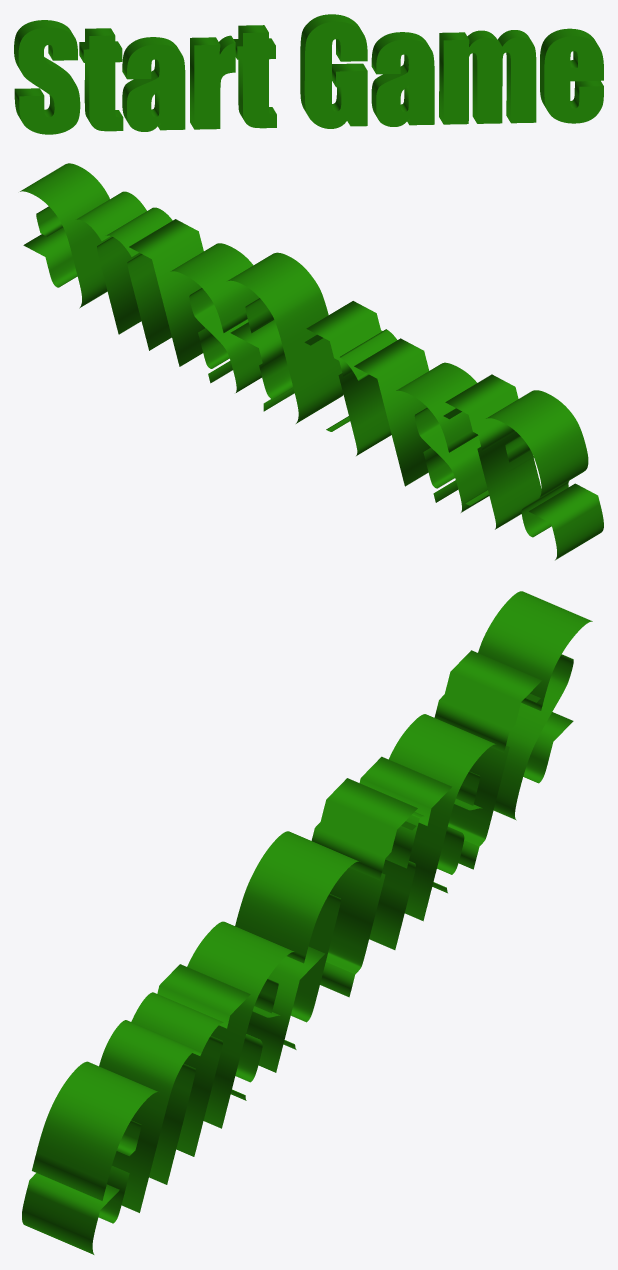
File: intro_start.glb
3 views of the same model, one above another, from view 1: azimuth 30°, elevation 25°; view 2: azimuth 150°, elevation 25°; view 3: azimuth 270°, elevation 25° (orthographic). The views are drawn at different scales.
Visible parts, largest first — view 1: Text.002; view 2: Text.002; view 3: Text.002.
Boxes of the visible parts, x1,y1,x2,y2 form: Text.002: (14,14,603,134); Text.002: (20,163,603,560); Text.002: (22,591,592,1254).
Bounding box in the file's own units: 0.7656 × 0.1789 × 0.3939.
